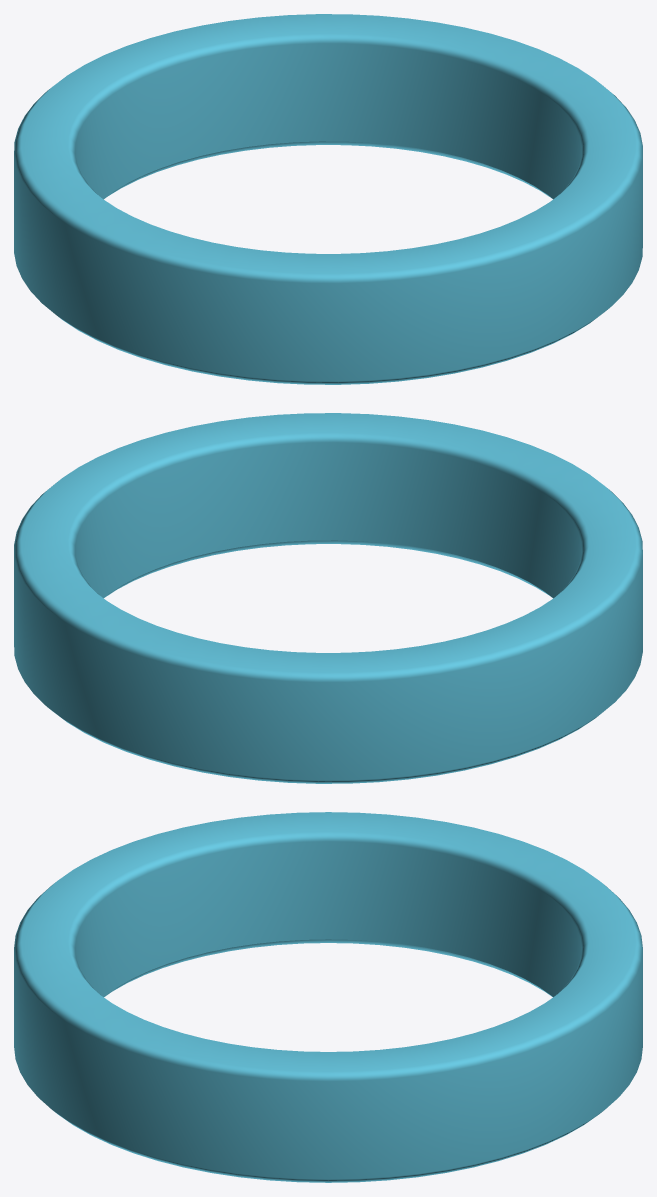
3 renders of one model, top to bottom at view 1: azimuth 30°, elevation 25°; view 2: azimuth 150°, elevation 25°; view 3: azimuth 270°, elevation 25°, orthographic.
Parts seen in each view (by area): view 1: seal_body; view 2: seal_body; view 3: seal_body.
Part boxes in pixels (x1,y1,x2,y2): seal_body: [14, 14, 642, 384]; seal_body: [14, 413, 642, 783]; seal_body: [14, 812, 642, 1182].
Bounding box in the file's own units: 0.0513 × 0.01 × 0.0513.
